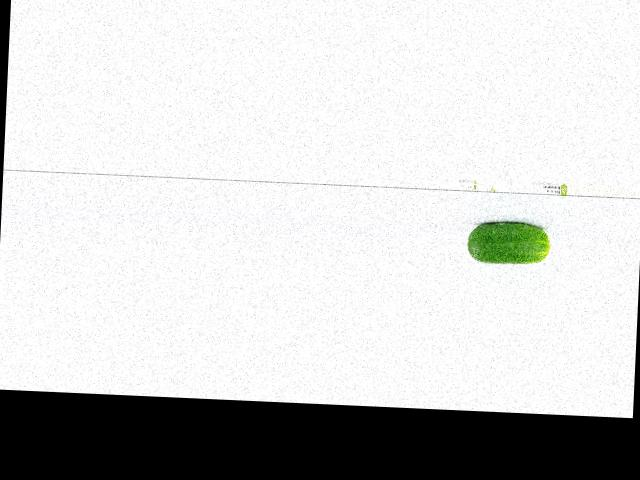cucumber: (466, 220, 550, 265)
